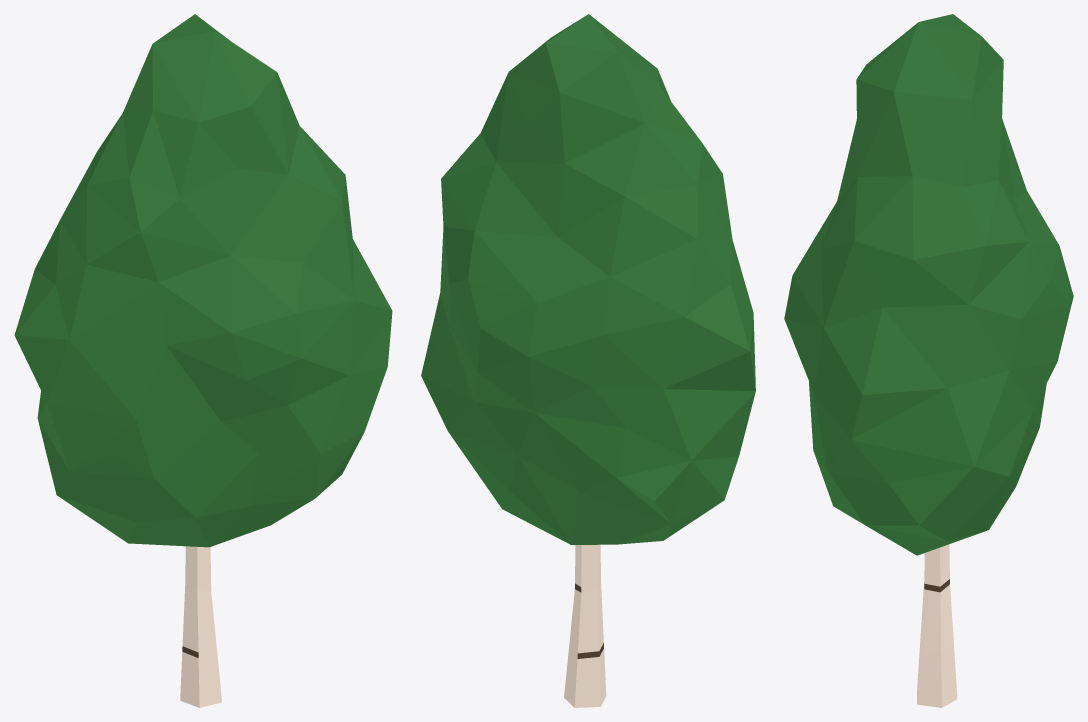
File: tree-birch.glb
The picture shows the model from 3 angles, left to right: view 1: azimuth 30°, elevation 25°; view 2: azimuth 150°, elevation 25°; view 3: azimuth 270°, elevation 25°; orthographic projection.
Parts seen in each view (by area): view 1: tree-birch; view 2: tree-birch; view 3: tree-birch.
Part boxes in pixels (<box>): tree-birch: <box>14,14,392,707</box>; tree-birch: <box>421,14,755,707</box>; tree-birch: <box>784,14,1073,707</box>.
Bounding box in the file's own units: 3.48 × 6.77 × 2.61.
Materials: 1 (1 with a texture image).
